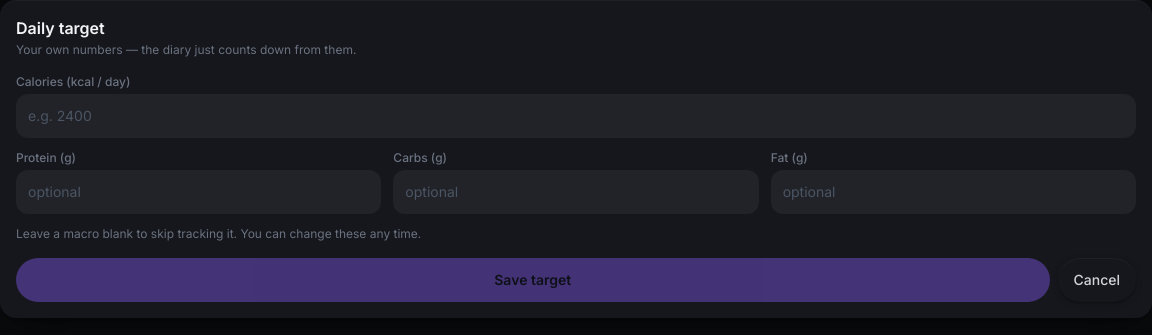
TargetEditor › rejects an out-of-range macro target before the server has to
The image size is (1152, 335).
Type "2400" into the field with test id "te-kcal" at point(576, 116), box [16,94,1136,138]
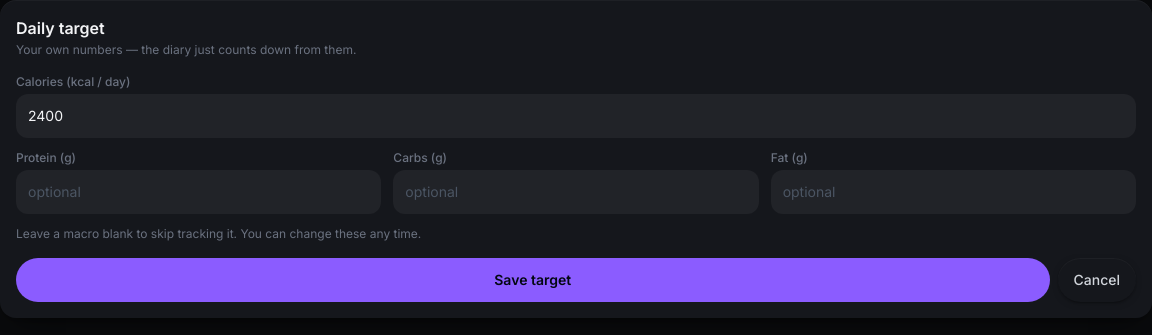
Type "5000" into the field with test id "te-protein" at point(199, 192), box [16,170,381,214]
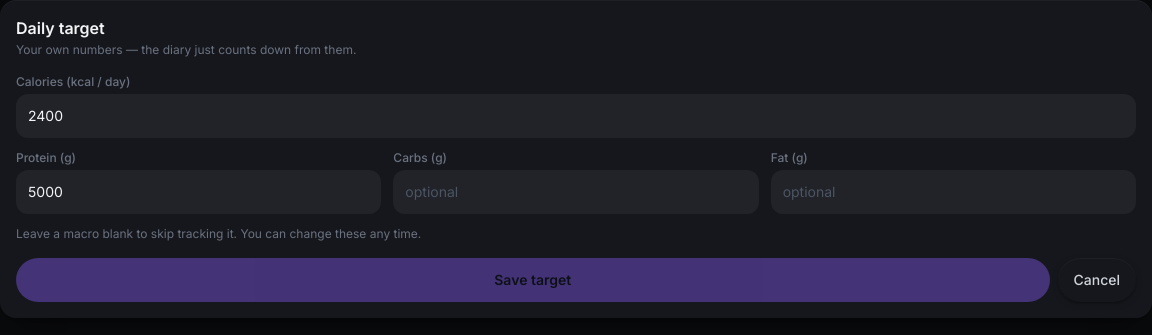
Expected: the button with test id "te-save" is disabled, [16,258,1050,302]
